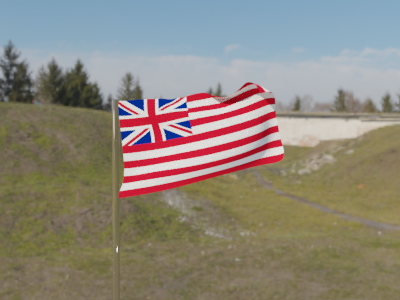Malaysia flag: (119, 81, 284, 197)
